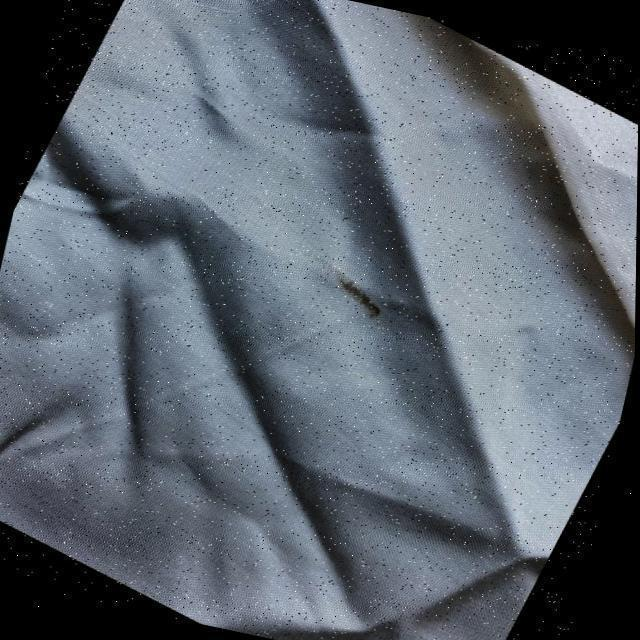broken_yarn: (62, 130, 373, 622), (285, 0, 538, 584), (458, 39, 637, 367)
